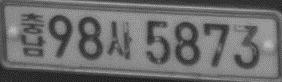3: (233, 23, 260, 68)
5: (145, 20, 170, 65)
7: (203, 22, 229, 68)
8: (77, 15, 103, 60), (174, 21, 200, 65)
9: (47, 13, 73, 58)
사: (107, 19, 133, 60)
충남_V: (20, 12, 46, 57)
